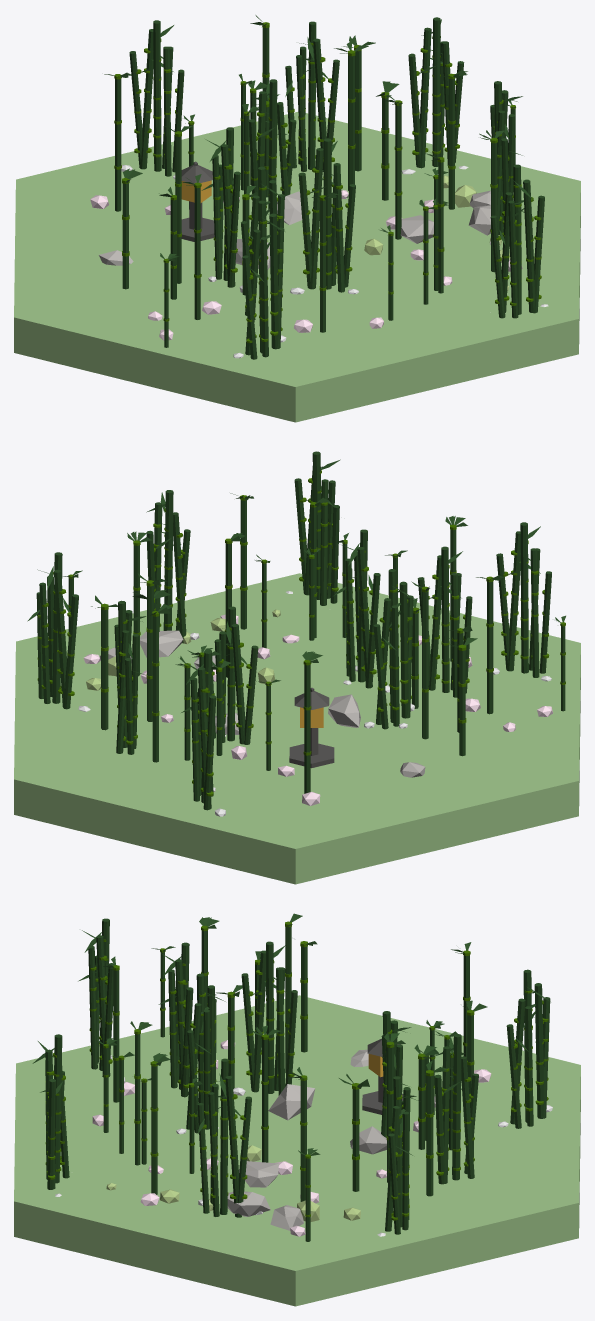
File: bamboo_keystone_sprint2.glb
3 renders of one model, top to bottom at view 1: azimuth 30°, elevation 25°; view 2: azimuth 150°, elevation 25°; view 3: azimuth 270°, elevation 25°, orthographic.
Parts seen in each view (by area): view 1: Cylinder.001, Low Poly Bamboo Stalk.093, Low Poly Bamboo Stalk.063, Low Poly Bamboo Stalk.106, Low Poly Bamboo Stalk.081, Low Poly Bamboo Stalk.049, Low Poly Bamboo Stalk.050, Low Poly Bamboo Stalk.094, Low Poly Bamboo Stalk.064, Low Poly Bamboo Stalk.100, Low Poly Bamboo Stalk.051, BambooStalk_2_3.002 (+44 smaller); view 2: Cylinder.001, Low Poly Bamboo Stalk.105, Low Poly Bamboo Stalk.074, Low Poly Bamboo Stalk.087, Low Poly Bamboo Stalk.070, BambooStalk_3_3, BambooStalk_1_2, Low Poly Bamboo Stalk.106, Low Poly Bamboo Stalk.073, Low Poly Bamboo Stalk.104, BambooStalk_0_0, Low Poly Bamboo Stalk.094 (+44 smaller); view 3: Cylinder.001, Low Poly Bamboo Stalk.081, Low Poly Bamboo Stalk.087, Low Poly Bamboo Stalk.069, Low Poly Bamboo Stalk.064, Low Poly Bamboo Stalk.070, Rock_0, BambooStalk_0_0, Low Poly Bamboo Stalk.099, Low Poly Bamboo Stalk.088, BambooStalk_2_3, Low Poly Bamboo Stalk.080 (+44 smaller).
Boxes of the visible parts, box(x1,y1,x2,y2) form: Cylinder.001: box(14, 112, 580, 422); Low Poly Bamboo Stalk.093: box(432, 17, 440, 166); Low Poly Bamboo Stalk.063: box(153, 20, 161, 171); Low Poly Bamboo Stalk.106: box(269, 213, 278, 349); Low Poly Bamboo Stalk.081: box(308, 21, 316, 169); Low Poly Bamboo Stalk.049: box(309, 148, 323, 289); Low Poly Bamboo Stalk.050: box(323, 138, 331, 289); Low Poly Bamboo Stalk.094: box(418, 27, 431, 168); Low Poly Bamboo Stalk.064: box(140, 29, 153, 169); Low Poly Bamboo Stalk.100: box(523, 179, 535, 313); Low Poly Bamboo Stalk.051: box(333, 163, 344, 292); BambooStalk_2_3.002: box(395, 105, 401, 239); Cylinder.001: box(14, 573, 580, 884); Low Poly Bamboo Stalk.105: box(520, 522, 528, 673); Low Poly Bamboo Stalk.074: box(441, 546, 449, 692); Low Poly Bamboo Stalk.087: box(164, 490, 173, 630); Low Poly Bamboo Stalk.070: box(399, 581, 408, 718); BambooStalk_3_3: box(422, 591, 428, 739); BambooStalk_1_2: box(152, 616, 158, 762); Low Poly Bamboo Stalk.106: box(507, 531, 520, 671); Low Poly Bamboo Stalk.073: box(429, 555, 441, 690); Low Poly Bamboo Stalk.104: box(530, 548, 539, 677); BambooStalk_0_0: box(101, 609, 108, 730); Low Poly Bamboo Stalk.094: box(53, 569, 66, 707); Cylinder.001: box(14, 995, 580, 1306); Low Poly Bamboo Stalk.081: box(452, 1034, 461, 1180); Low Poly Bamboo Stalk.087: box(220, 1058, 228, 1214); Low Poly Bamboo Stalk.069: box(266, 941, 274, 1093); Low Poly Bamboo Stalk.064: box(534, 983, 544, 1118); Low Poly Bamboo Stalk.070: box(252, 950, 265, 1092); Rock_0: box(268, 1084, 315, 1120); BambooStalk_0_0: box(426, 1075, 433, 1196); Low Poly Bamboo Stalk.099: box(54, 1034, 62, 1183); Low Poly Bamboo Stalk.088: box(225, 1075, 238, 1216); BambooStalk_2_3: box(113, 970, 119, 1102); Low Poly Bamboo Stalk.080: box(461, 1056, 474, 1178).
Bounding box in the file's own units: 5 × 1.71 × 4.35.
